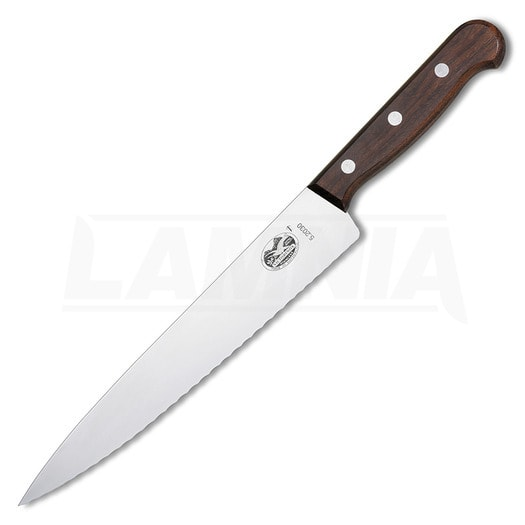knife: (20, 22, 507, 506)
